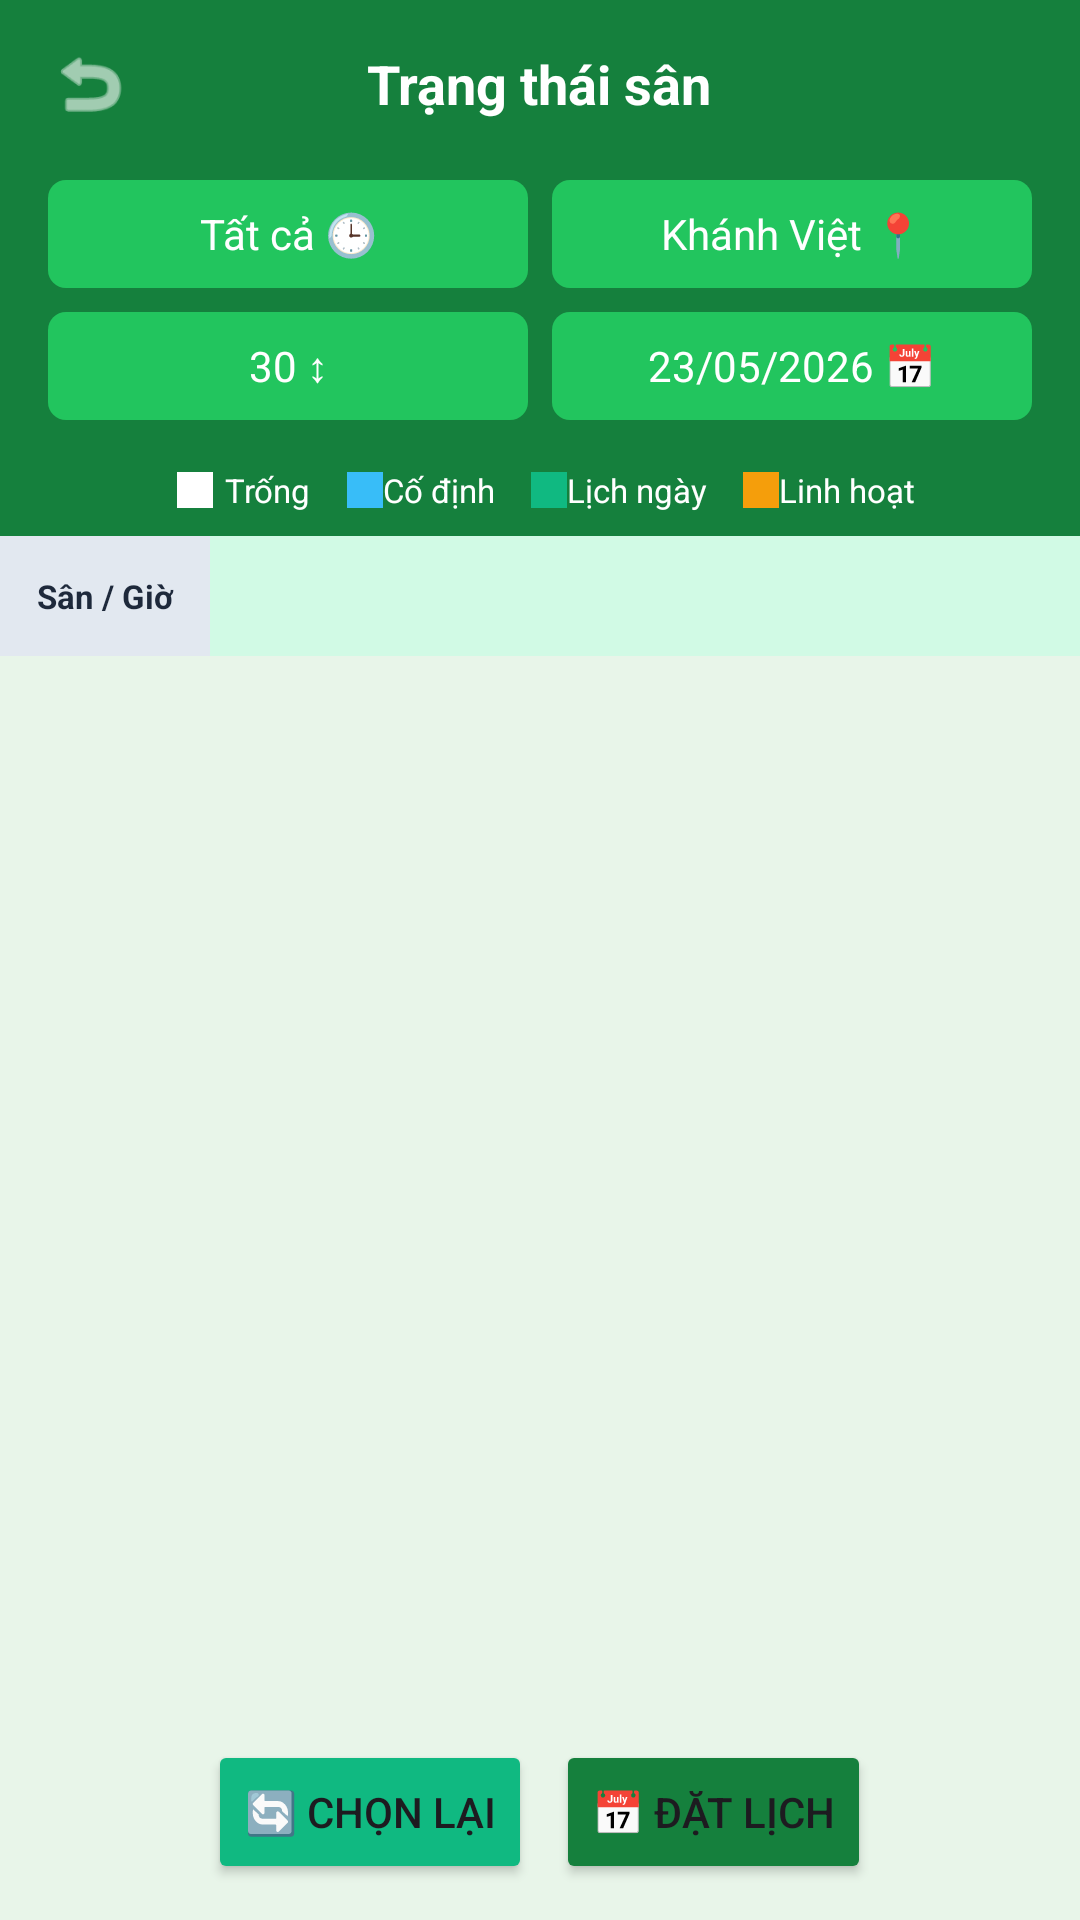

Screen size 1080w x 1920h. Icon name, then its center in pixels as (x=x, y=y):
revert: (x=91, y=84)
